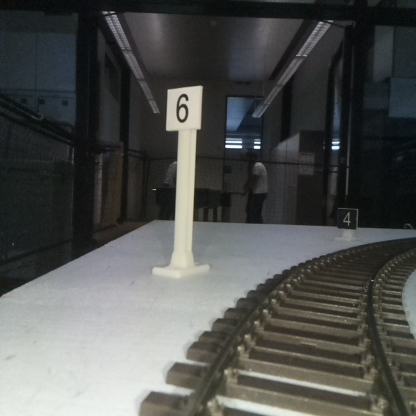black-stop-4: (338, 207, 356, 241)
white-info-6: (166, 86, 202, 275)
